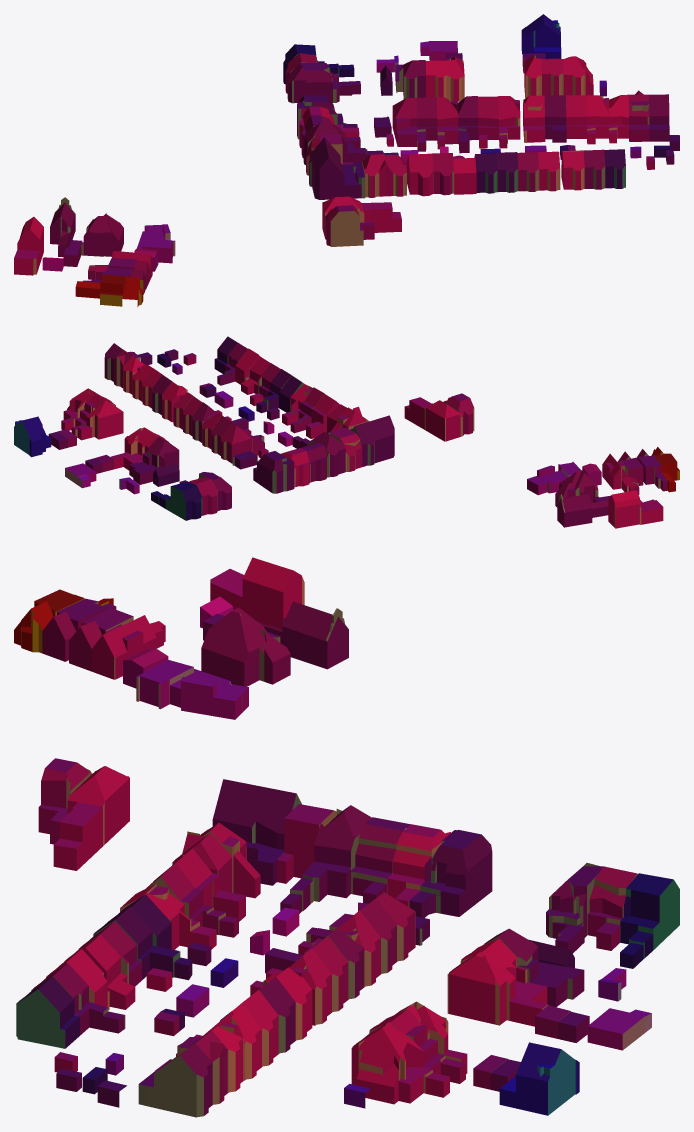
File: buildings_5_14.glb
3 views of the same model, one above another, from view 1: azimuth 30°, elevation 25°; view 2: azimuth 150°, elevation 25°; view 3: azimuth 270°, elevation 25° (orthographic). The views are drawn at different scales.
Parts seen in each view (by area): view 1: buildings_5_14; view 2: buildings_5_14; view 3: buildings_5_14.
Part boxes in pixels (<box>): buildings_5_14: <box>14,14,679,307</box>; buildings_5_14: <box>14,336,679,528</box>; buildings_5_14: <box>14,557,679,1117</box>.
Bounding box in the file's own units: 209 × 13.07 × 113.
